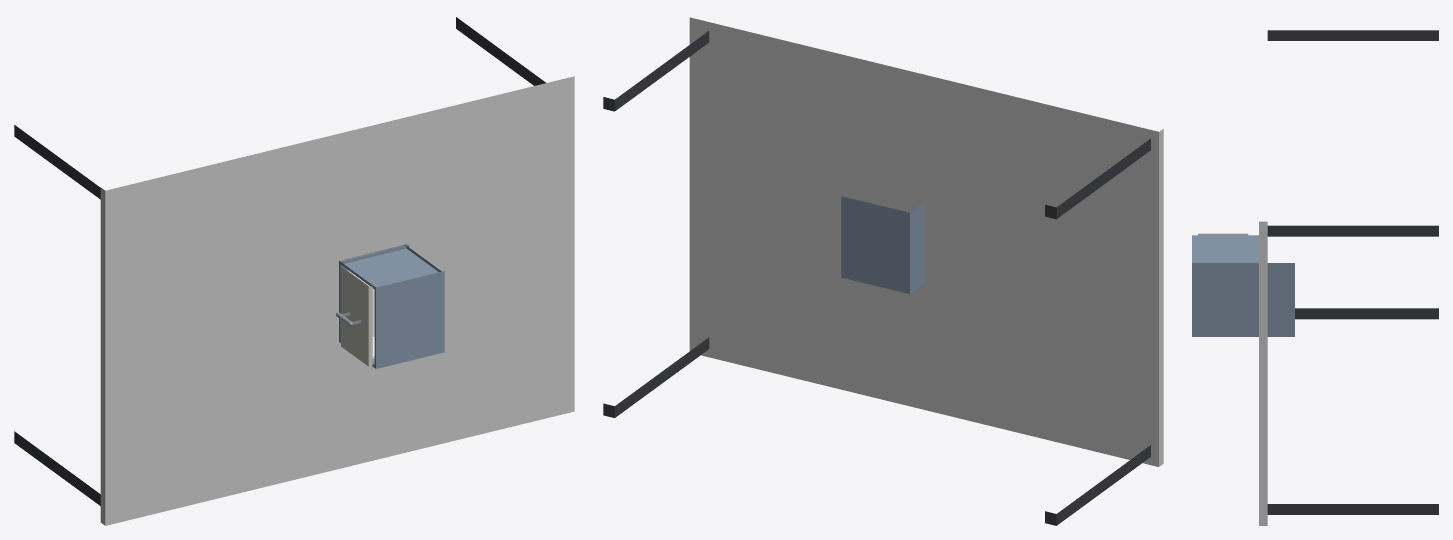
The model's file is t2_0a60e8ccfe.glb.
The picture shows the model from 3 angles, left to right: view 1: azimuth 30°, elevation 25°; view 2: azimuth 150°, elevation 25°; view 3: azimuth 270°, elevation 25°; orthographic projection. The views are drawn at different scales.
Visible parts, largest first — view 1: s0, s1, s2; view 2: s0, s1; view 3: s0, s1.
Boxes of the visible parts, box(x1,y1,x2,y2) form: s0: box(14, 17, 574, 525); s1: box(339, 244, 444, 368); s2: box(336, 267, 374, 366); s0: box(603, 17, 1163, 525); s1: box(841, 196, 925, 294); s0: box(1259, 30, 1438, 525); s1: box(1192, 235, 1294, 336).
Bounding box in the file's own units: 2.05 × 1.4 × 1.03.
